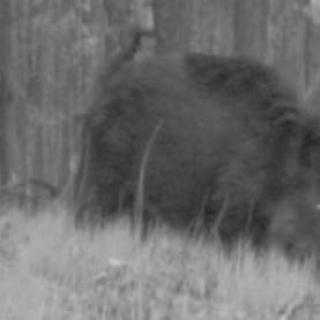Pig: (74, 11, 320, 256)
